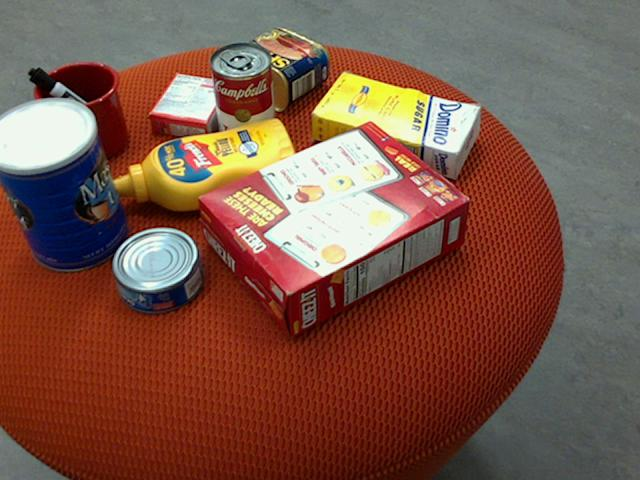cracker_box: (198, 120, 470, 336)
gelatin_box: (148, 72, 234, 140)
large_marker: (28, 67, 125, 142)
master_chef_can: (0, 97, 128, 272)
mug: (22, 62, 128, 163)
mustard_bottle: (112, 118, 299, 211)
potted_meat_can: (224, 28, 329, 112)
sugar_box: (311, 72, 482, 177)
tomato_soup_can: (210, 41, 275, 149)
tuna_fish_can: (111, 228, 204, 314)
